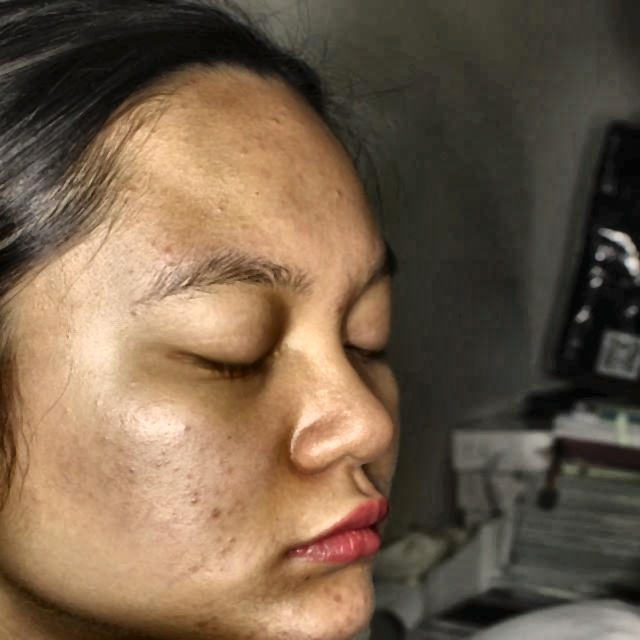comedone: (208, 493, 221, 526), (334, 586, 354, 606)
